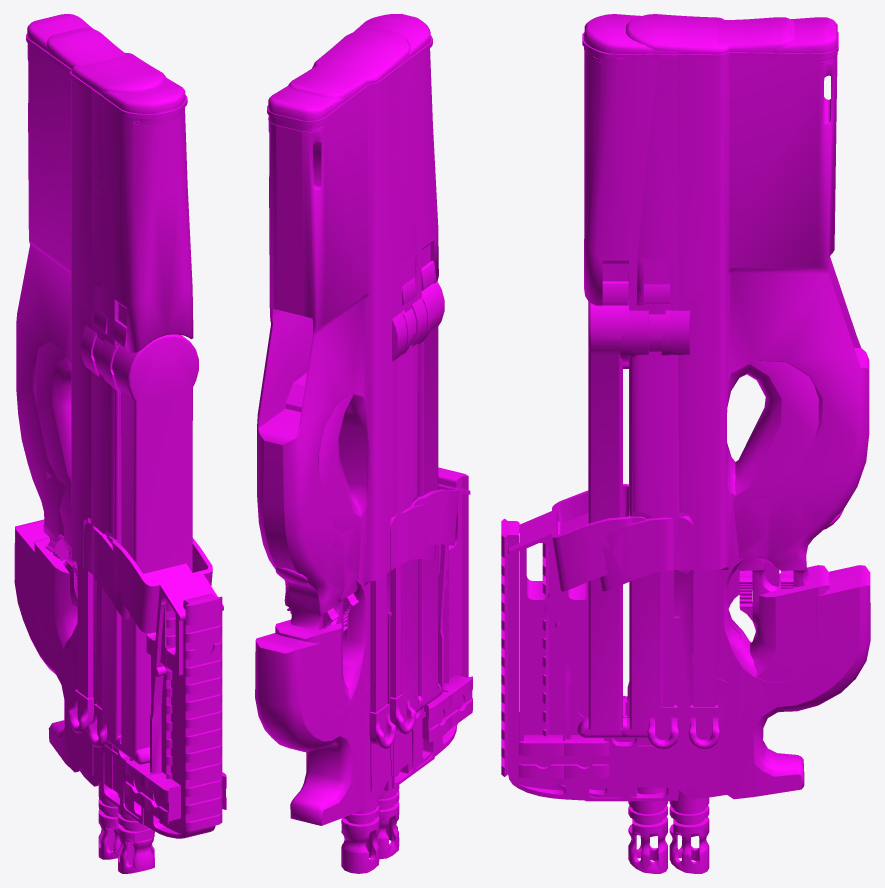
File: P-Cherie_Pinker.glb
The picture shows the model from 3 angles, left to right: view 1: azimuth 30°, elevation 25°; view 2: azimuth 150°, elevation 25°; view 3: azimuth 270°, elevation 25°; orthographic projection. The views are drawn at different scales.
Parts seen in each view (by area): view 1: P90 2014; view 2: P90 2014; view 3: P90 2014.
Boxes of the visible parts, box(x1,y1,x2,y2) form: P90 2014: box(14, 14, 226, 873); P90 2014: box(255, 14, 472, 873); P90 2014: box(501, 14, 870, 873).
Bounding box in the file's own units: 2.14 × 21.82 × 8.67.
